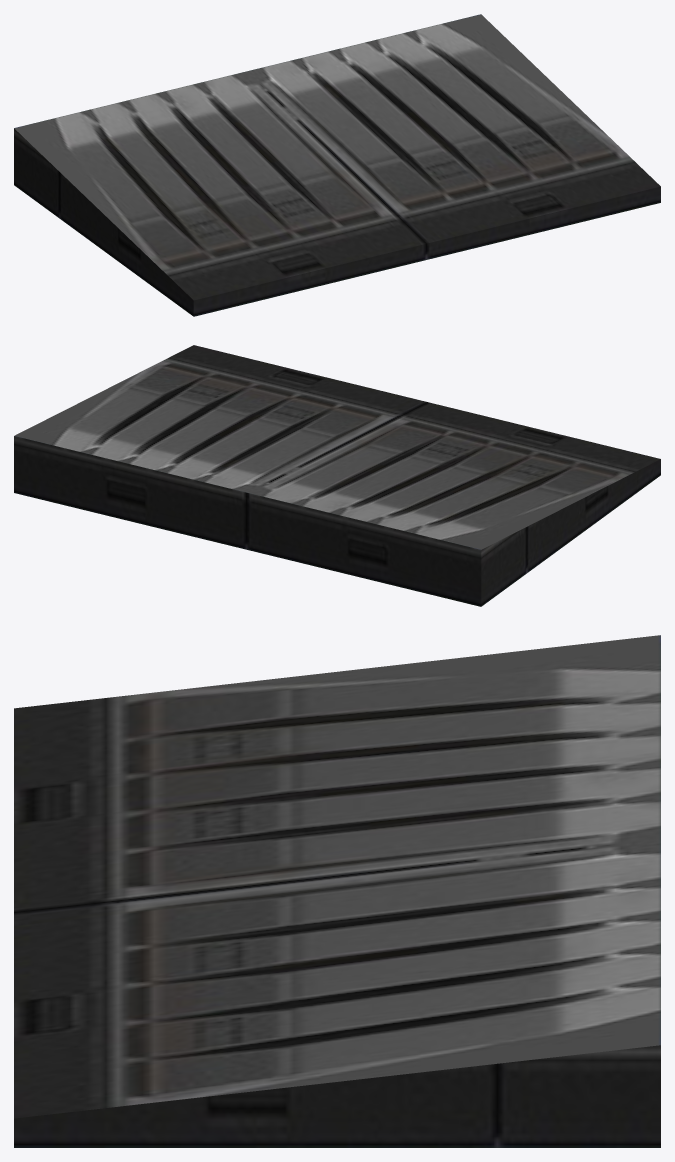
The model's file is dumpster-top.fbx.
3 views of the same model, one above another, from view 1: azimuth 30°, elevation 25°; view 2: azimuth 150°, elevation 25°; view 3: azimuth 270°, elevation 25° (orthographic). The views are drawn at different scales.
Parts seen in each view (by area): view 1: dumpster-top; view 2: dumpster-top; view 3: dumpster-top.
Part boxes in pixels (left/top/right/bottom): dumpster-top: left=14, top=14, right=660, bottom=316; dumpster-top: left=14, top=345, right=660, bottom=606; dumpster-top: left=14, top=635, right=660, bottom=1147.
Bounding box in the file's own units: 150 × 17.5 × 100.
1 material, 1 textured.
